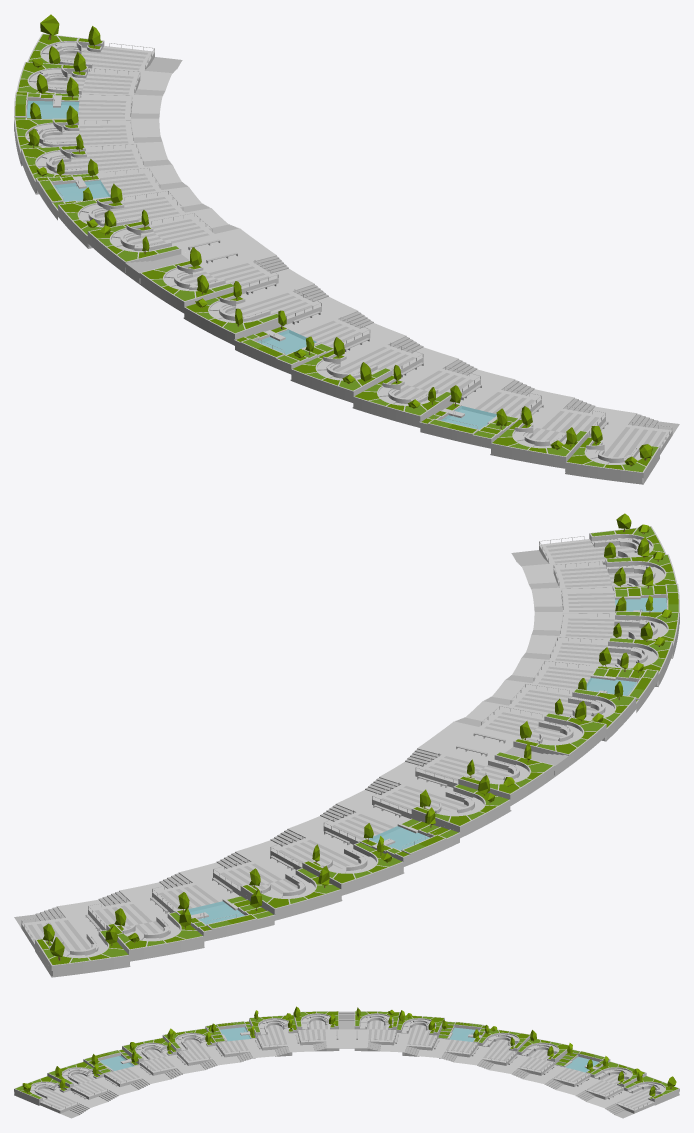
File: ring4_segment.glb
The picture shows the model from 3 angles, top to bottom: view 1: azimuth 30°, elevation 25°; view 2: azimuth 150°, elevation 25°; view 3: azimuth 270°, elevation 25°; orthographic projection. The views are drawn at different scales.
Parts seen in each view (by area): view 1: RING_4_MOD; view 2: RING_4_MOD; view 3: RING_4_MOD.
Boxes of the visible parts, x1,y1,x2,y2 form: RING_4_MOD: [14, 14, 679, 484]; RING_4_MOD: [14, 513, 679, 977]; RING_4_MOD: [14, 1006, 679, 1118].
Size of the model in its own units: 5319 by 1175 by 18494.
Materials: 8 (1 with a texture image).
